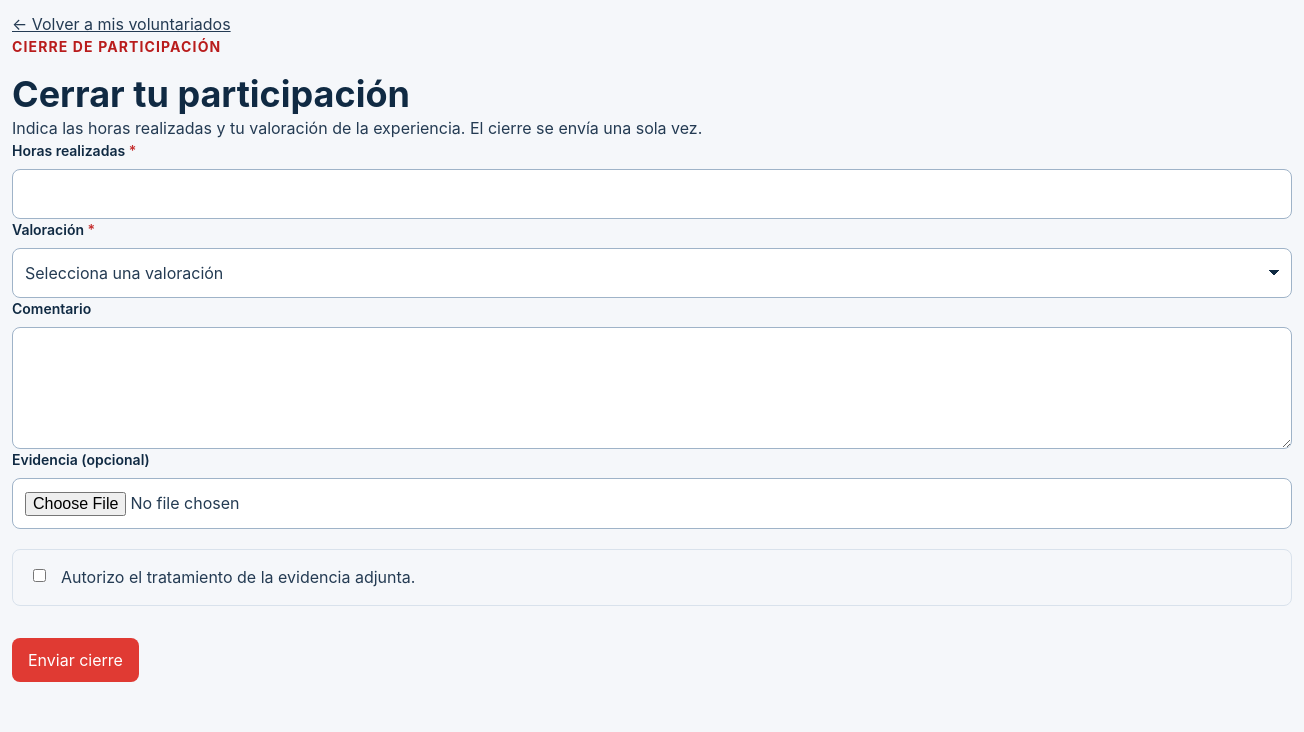
Test: employee closure page › shows CLOSURE_ALREADY_CLOSED as a non-blocking inline error
Step 1. Type "6" into the number field labelled "Horas realizadas *" → (652, 194), box 12,169 -> 1292,219
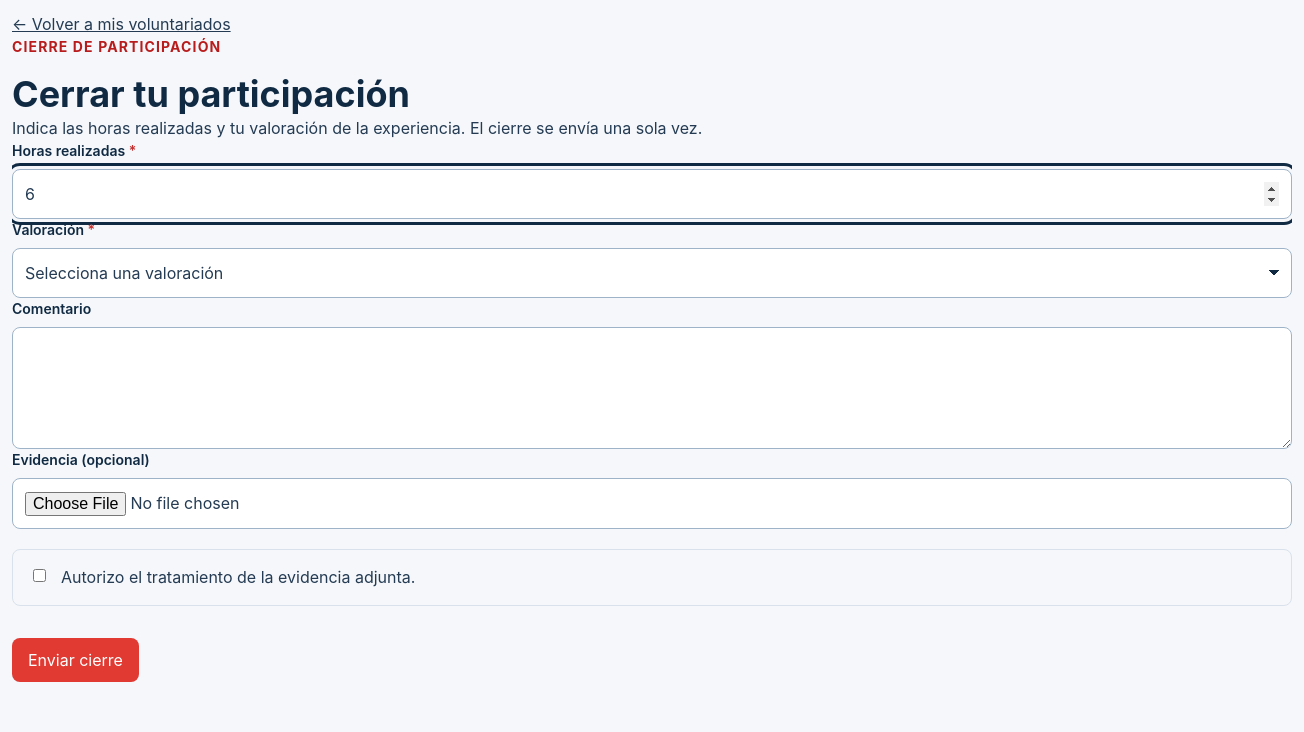
Step 2. Select "5" in the dropdown labelled "Valoración *" → (652, 273), box 12,248 -> 1292,298
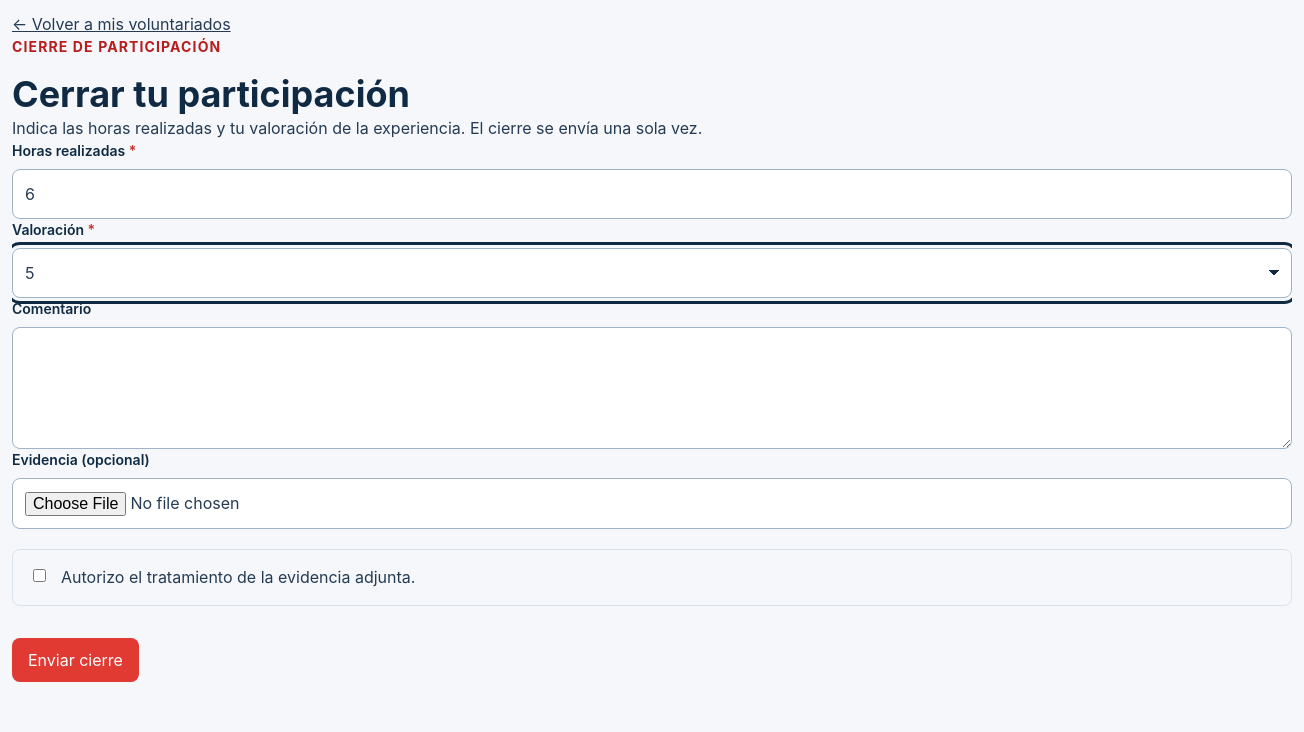
Step 3. Click the button "Enviar cierre" → (75, 660), box 12,638 -> 139,682
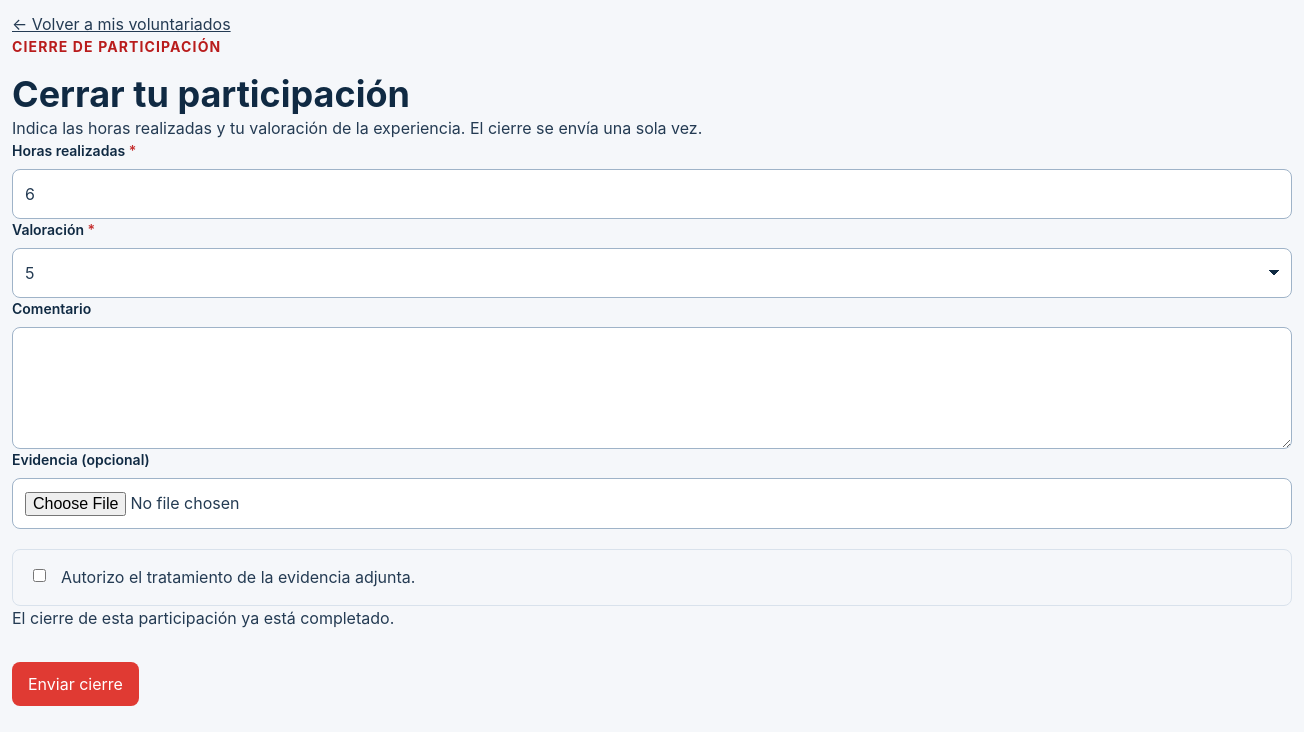
Check: the button "Enviar cierre" is enabled, box 12,662 -> 139,706
Check: the message shows "ya está completado", box 12,608 -> 394,628
